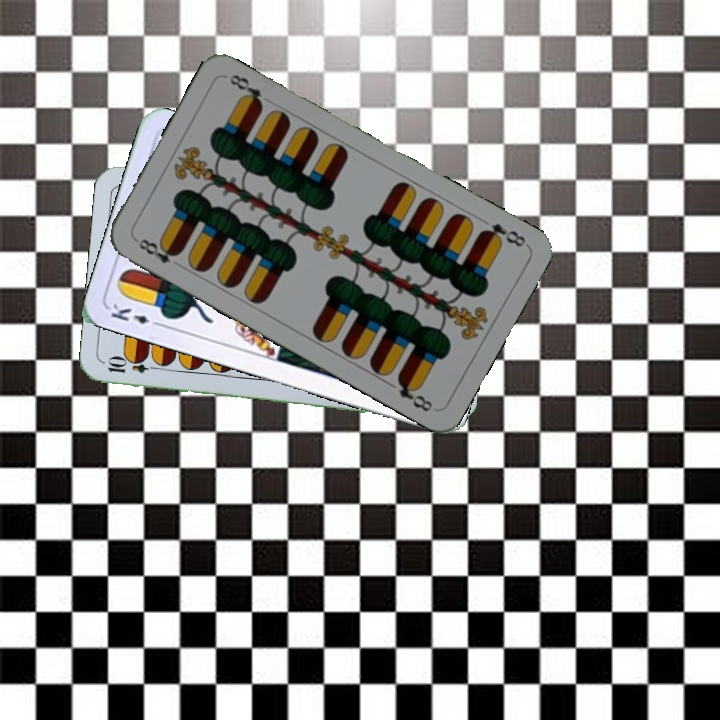E10: (104, 356, 163, 376)
E8: (131, 234, 185, 271), (476, 218, 529, 250)
EK: (106, 299, 165, 330)
